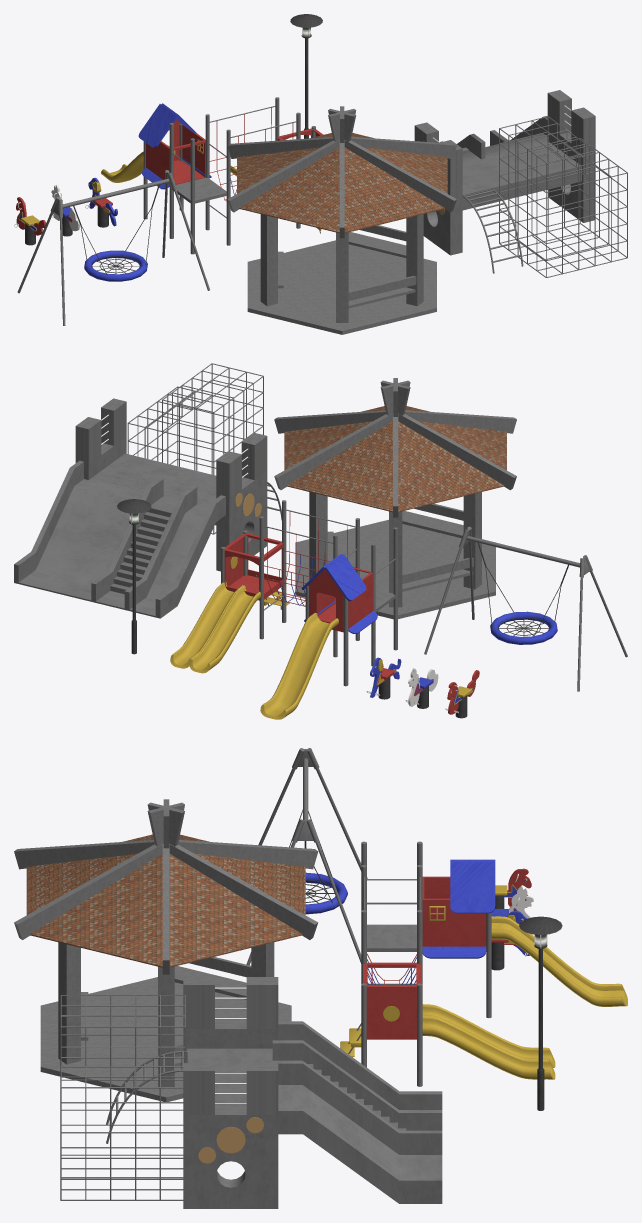
The model's file is park_facility_asset.glb.
The picture shows the model from 3 angles, top to bottom: view 1: azimuth 30°, elevation 25°; view 2: azimuth 150°, elevation 25°; view 3: azimuth 270°, elevation 25°; orthographic projection. The views are drawn at different scales.
Parts seen in each view (by area): view 1: rest_2_concrete_1, slider_2_gray_0, rest_2_roof_0, slider_2_concrete_0, swing_D_R_0, swing_D_B_0, swing_D_metal_0, swing_D_Y_0; view 2: slider_2_gray_0, rest_2_concrete_1, rest_2_roof_0, swing_D_Y_0, swing_D_R_0, slider_2_concrete_0, swing_D_B_0, swing_D_metal_0, slider_2_concrete.1_0, swing_D_white_0; view 3: slider_2_gray_0, rest_2_concrete_1, rest_2_roof_0, swing_D_Y_0, swing_D_R_0, swing_D_B_0, slider_2_concrete_0, swing_D_metal_0, slider_2_brown_0.
Part boxes in pixels (x1,y1,x2,y2): rest_2_concrete_1: (227,106,456,334); slider_2_gray_0: (17,90,627,325); rest_2_roof_0: (237,133,447,233); slider_2_concrete_0: (62,97,523,273); swing_D_R_0: (16,107,323,235); swing_D_B_0: (19,103,234,281); swing_D_metal_0: (25,14,322,275); swing_D_Y_0: (18,139,321,231); slider_2_gray_0: (14,363,627,691); rest_2_concrete_1: (274,378,516,619); rest_2_roof_0: (284,406,506,512); swing_D_Y_0: (170,556,473,719); swing_D_R_0: (224,511,479,714); slider_2_concrete_0: (221,482,579,686); swing_D_B_0: (279,554,557,704); swing_D_metal_0: (117,499,569,718); slider_2_concrete.1_0: (110,505,172,594); swing_D_white_0: (366,666,458,713); slider_2_gray_0: (60,748,442,1208); rest_2_concrete_1: (14,799,318,1101); rest_2_roof_0: (26,834,305,967); swing_D_Y_0: (340,884,627,1079); swing_D_R_0: (363,868,531,1039); swing_D_B_0: (305,859,529,984); slider_2_concrete_0: (106,758,491,1143); swing_D_metal_0: (289,809,562,1110); slider_2_brown_0: (198,1117,263,1163).
Bounding box in the file's own units: 1399 × 465 × 1101.
12 materials, 9 textured.
